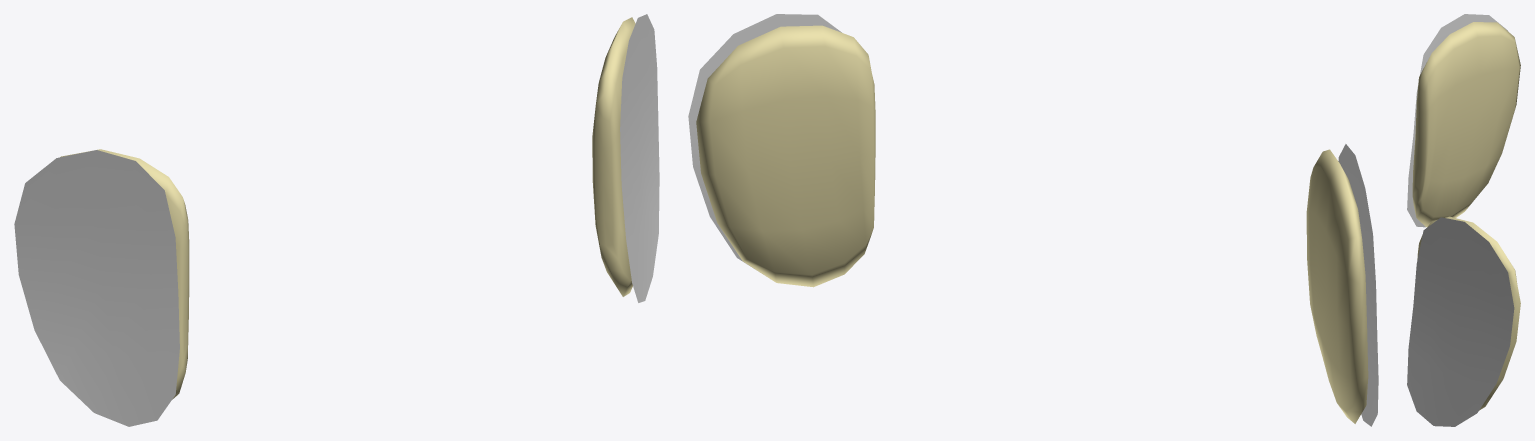
The model's file is ears-0.fbx.
The picture shows the model from 3 angles, left to right: view 1: azimuth 30°, elevation 25°; view 2: azimuth 150°, elevation 25°; view 3: azimuth 270°, elevation 25°; orthographic projection. The views are drawn at different scales.
Parts seen in each view (by area): view 1: Cube; view 2: Cube; view 3: Cube.
Boxes of the visible parts, bbox=[...] form: Cube: bbox=[14, 14, 659, 426]; Cube: bbox=[688, 14, 1378, 426]; Cube: bbox=[1407, 14, 1520, 426].
Bounding box in the file's own units: 57.22 × 22.59 × 11.15.
